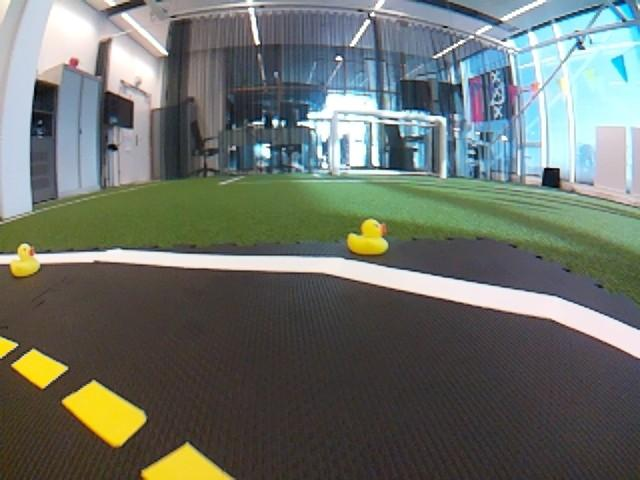Duckies: (349, 219, 389, 256), (8, 244, 41, 277)
